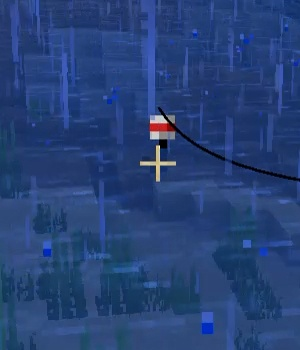up: (142, 104, 181, 174)
